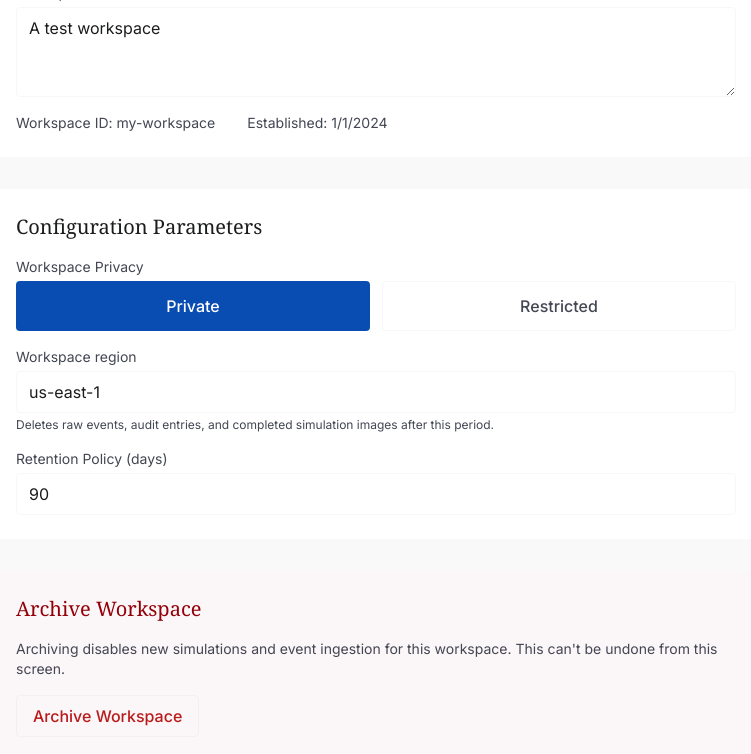
Test: GeneralSettingsPage › archives the workspace when confirmed
(page scrolled)
Click the button "Archive Workspace": {"x": 108, "y": 716} 16,695 -> 199,737
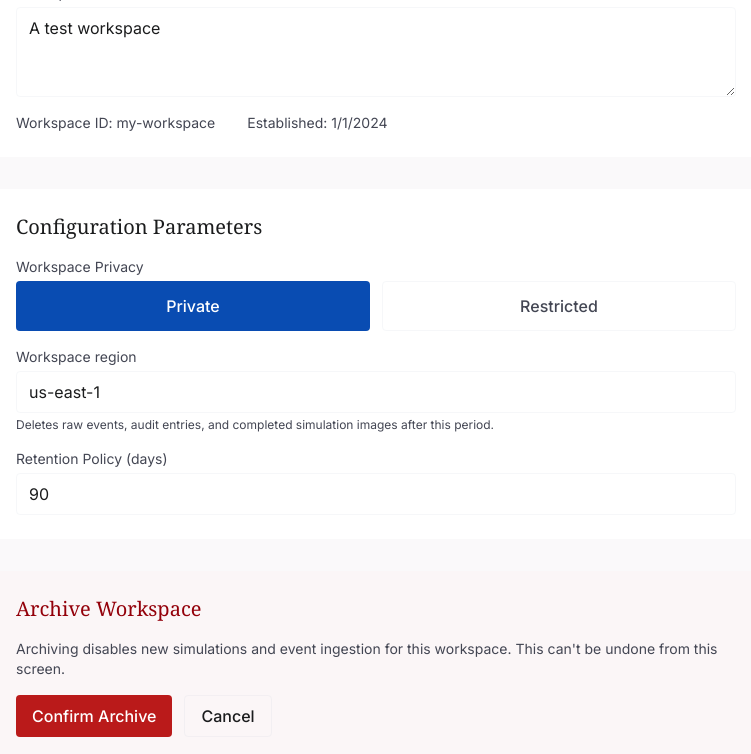
Click the button "Confirm Archive": {"x": 94, "y": 716} 16,695 -> 172,737
(page scrolled)
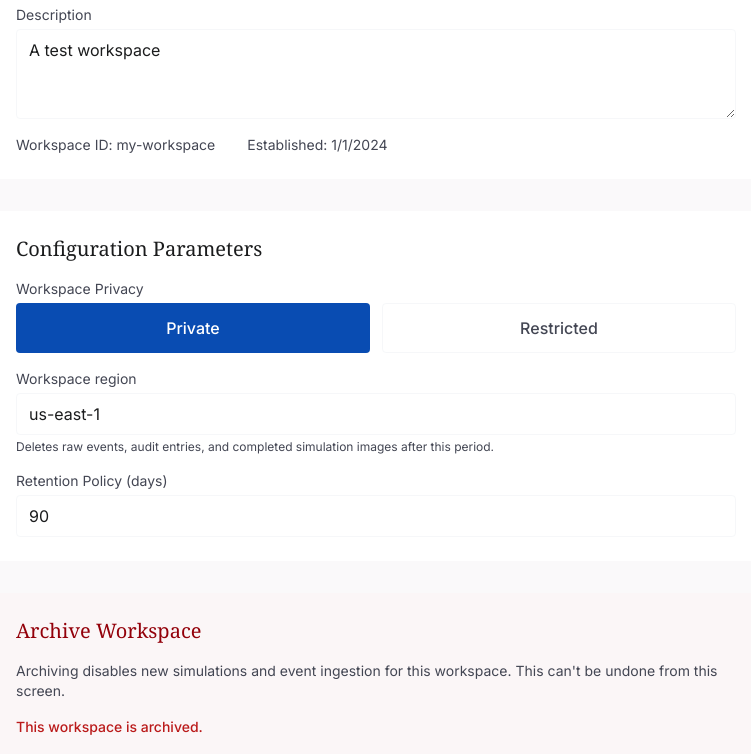
expect the text "This workspace is archived." is shown: met, box 16,718 -> 203,735
